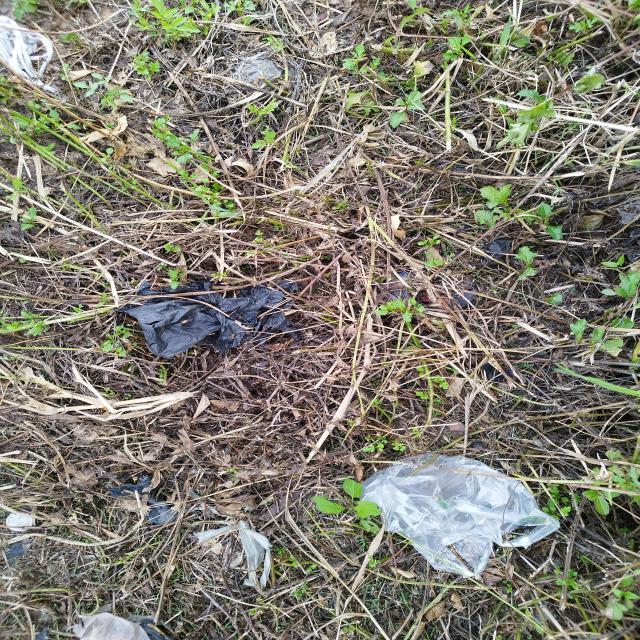bag: (365, 454, 560, 576), (120, 278, 303, 360)
